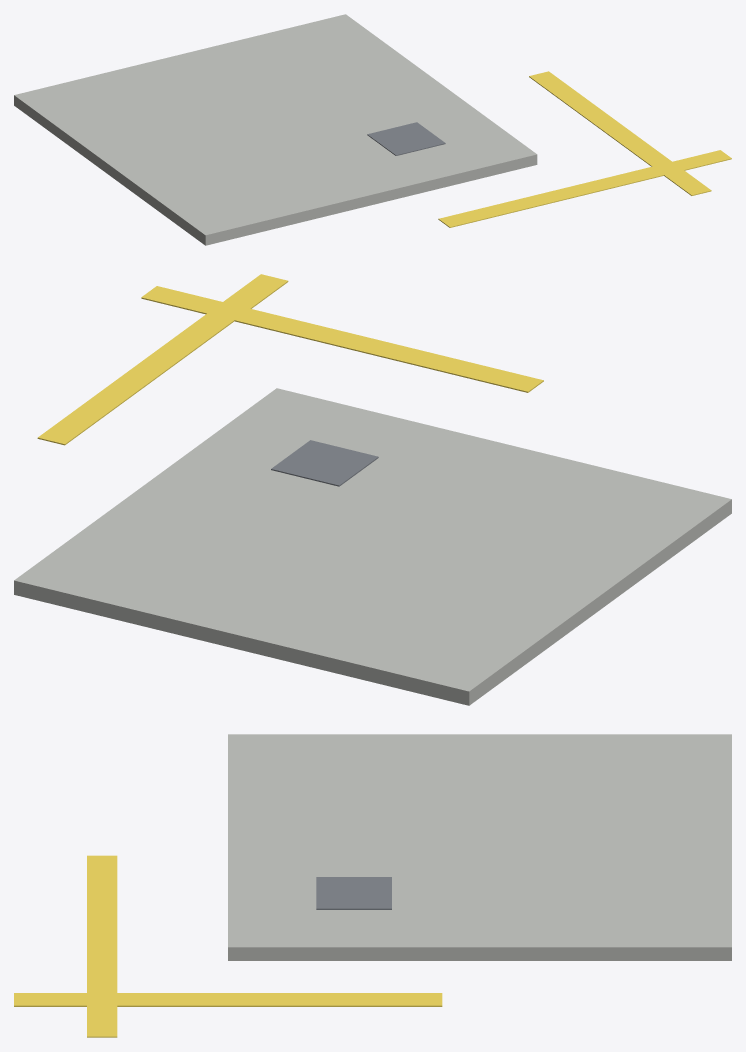
File: workshop-floor-tile.glb
3 renders of one model, top to bottom at view 1: azimuth 30°, elevation 25°; view 2: azimuth 150°, elevation 25°; view 3: azimuth 270°, elevation 25°, orthographic. The views are drawn at different scales.
Parts seen in each view (by area): view 1: workshop-floor-tile; view 2: workshop-floor-tile; view 3: workshop-floor-tile.
Boxes of the visible parts, x1,y1,x2,y2 form: workshop-floor-tile: [14, 14, 731, 245]; workshop-floor-tile: [14, 274, 731, 705]; workshop-floor-tile: [14, 734, 731, 1037].
Size of the model in its own units: 2.85 by 0.065 by 2.85.
